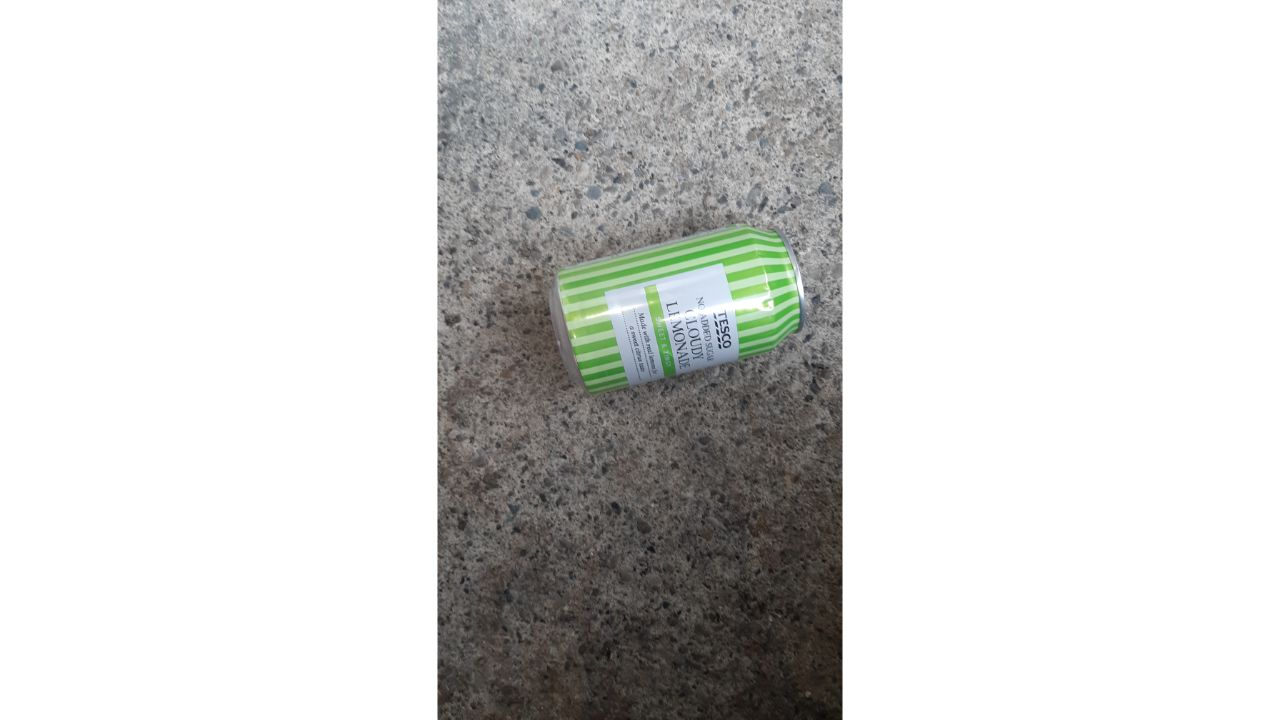Can: (534, 211, 816, 405)
